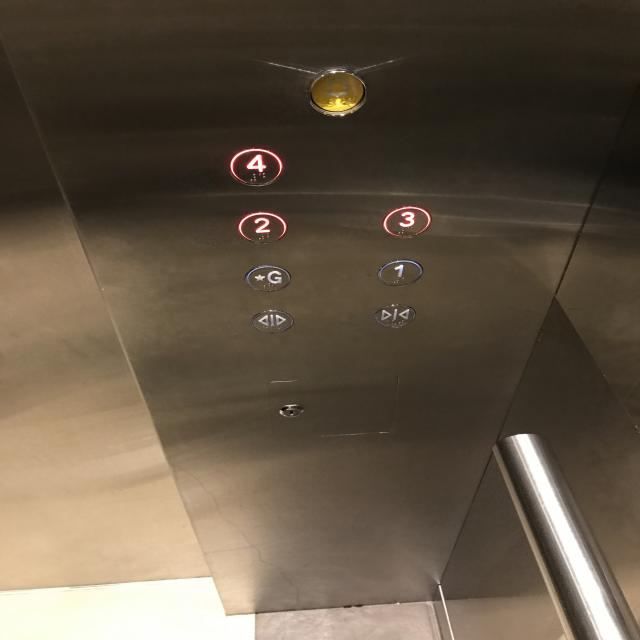1: (375, 258, 425, 288)
2: (236, 210, 287, 244)
3: (381, 204, 432, 238)
4: (228, 148, 282, 188)
alarm: (307, 66, 369, 117)
close: (370, 301, 418, 329)
open: (247, 307, 295, 335)
sG: (243, 264, 292, 294)
